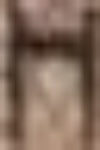H: (0, 0, 99, 149)
